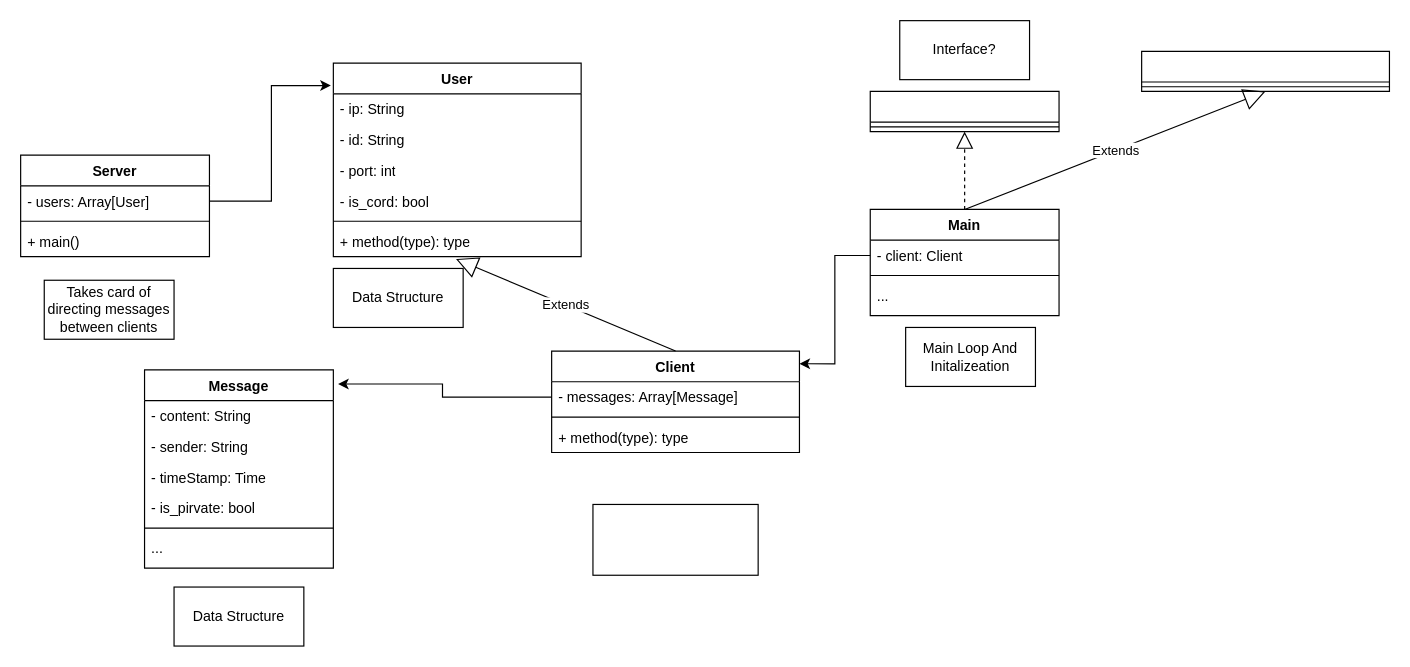
This 1410x667 diagram has some shape labels left out. The shapes that lost their labels are listed below. From the top down, each one's centre as x and y in pixels, then its label:
At [1264,70]: "Thread".
At [964,111]: "CLI".
At [675,539]: "handles messages it has been sent and sends messages to server".
